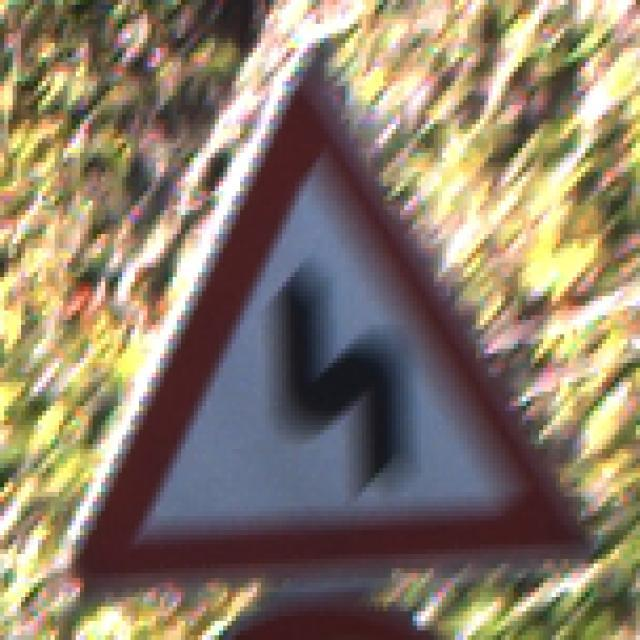left reverse bend: (65, 48, 601, 590)
